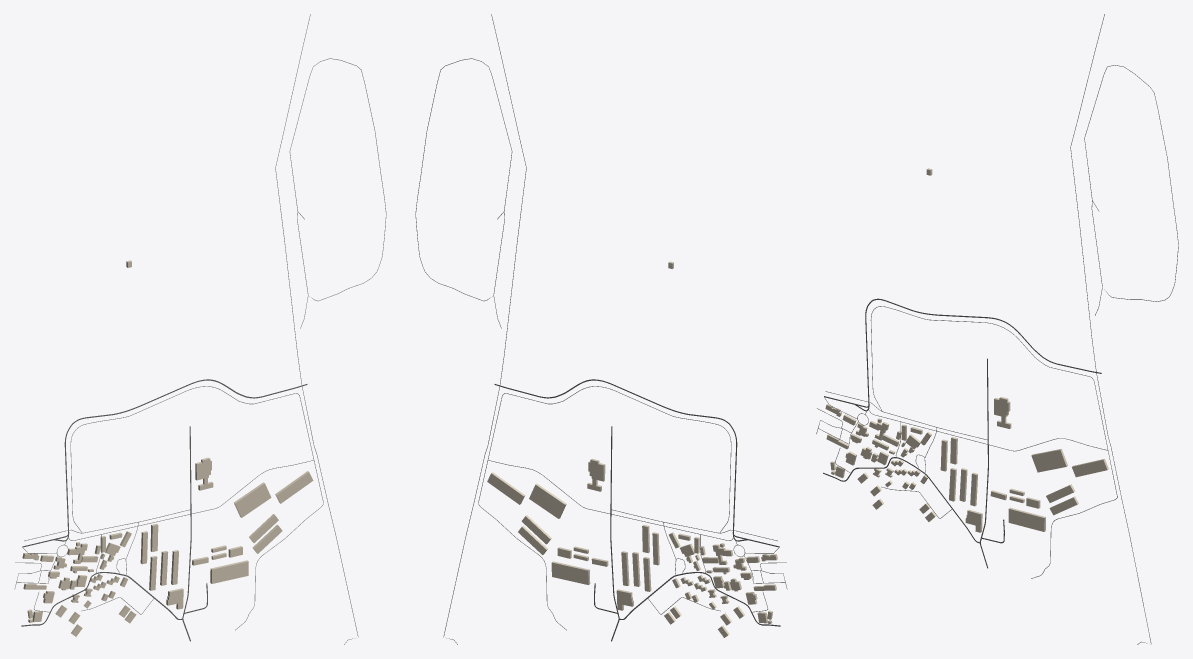
The model's file is historic-palestine-13_30_3551_3244.glb.
The picture shows the model from 3 angles, left to right: view 1: azimuth 30°, elevation 25°; view 2: azimuth 150°, elevation 25°; view 3: azimuth 330°, elevation 25°; orthographic projection. The views are drawn at different scales.
Parts seen in each view (by area): view 1: Road .014, Building_.001, Road .001, Building_, Road .006; view 2: Building_.001, Road .014, Road .001, Road .006, Building_; view 3: Road .014, Road .001, Road .006, Building_.001, Building_.
Boxes of the visible parts, x1=… form: Road .014: x1=70, y1=386, x2=323, y2=630; Building_.001: x1=234, y1=482, x2=271, y2=517; Road .001: x1=289, y1=58, x2=386, y2=328; Building_: x1=210, y1=560, x2=248, y2=583; Road .006: x1=64, y1=379, x2=307, y2=533; Building_.001: x1=529, y1=483, x2=566, y2=518; Road .014: x1=478, y1=386, x2=731, y2=630; Road .001: x1=415, y1=58, x2=512, y2=328; Road .006: x1=494, y1=379, x2=737, y2=533; Building_: x1=551, y1=561, x2=590, y2=584; Road .014: x1=870, y1=306, x2=1117, y2=578; Road .001: x1=1084, y1=65, x2=1178, y2=315; Road .006: x1=865, y1=298, x2=1101, y2=404; Building_.001: x1=1031, y1=449, x2=1067, y2=472; Building_: x1=1008, y1=507, x2=1045, y2=531.
Bounding box in the file's own units: 1055 × 1733 × 8.7.
